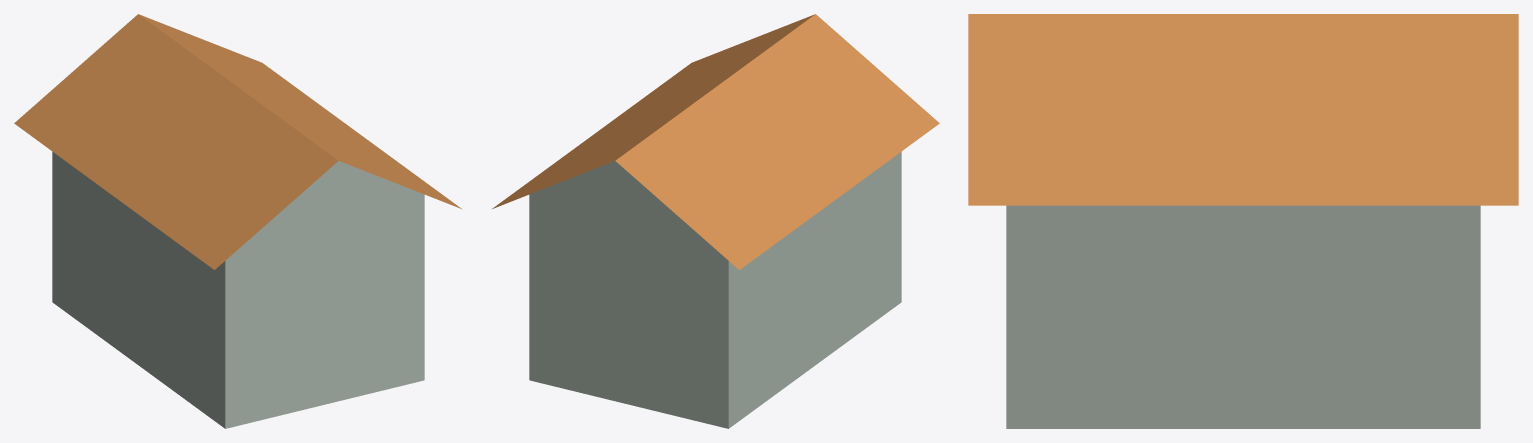
File: Brunnhaus.fbx
3 views of the same model, side by side, from view 1: azimuth 30°, elevation 25°; view 2: azimuth 150°, elevation 25°; view 3: azimuth 270°, elevation 25° (orthographic). The views are drawn at different scales.
Parts seen in each view (by area): view 1: Plane; view 2: Plane; view 3: Plane.
Boxes of the visible parts, x1=… form: Plane: x1=14, y1=14, x2=461, y2=428; Plane: x1=492, y1=14, x2=939, y2=428; Plane: x1=968, y1=14, x2=1518, y2=428.
Bounding box in the file's own units: 450 × 440 × 630.
